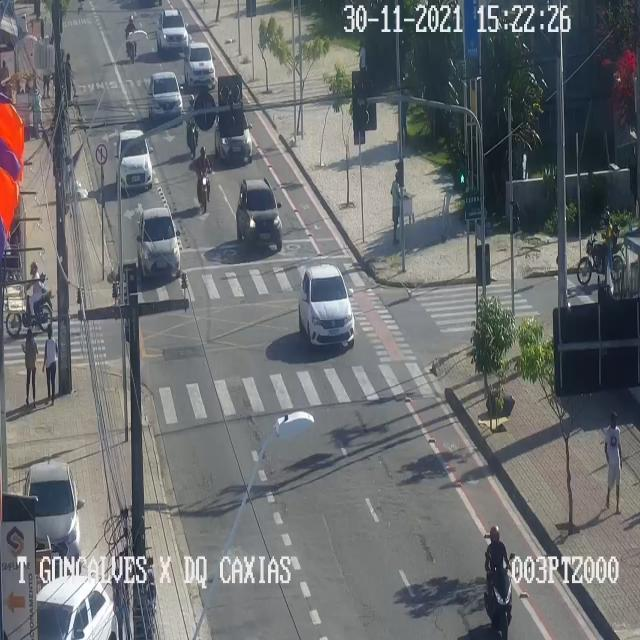Car: (26, 459, 80, 559), (36, 578, 118, 639), (301, 268, 355, 354), (235, 174, 284, 253), (136, 209, 182, 283), (116, 130, 154, 189), (216, 108, 251, 164), (148, 69, 182, 122), (186, 41, 214, 85), (157, 10, 185, 52)
Motorcycle: (578, 206, 624, 286), (485, 523, 515, 638), (7, 269, 53, 336), (193, 144, 212, 212), (122, 14, 138, 65), (185, 94, 198, 148)
